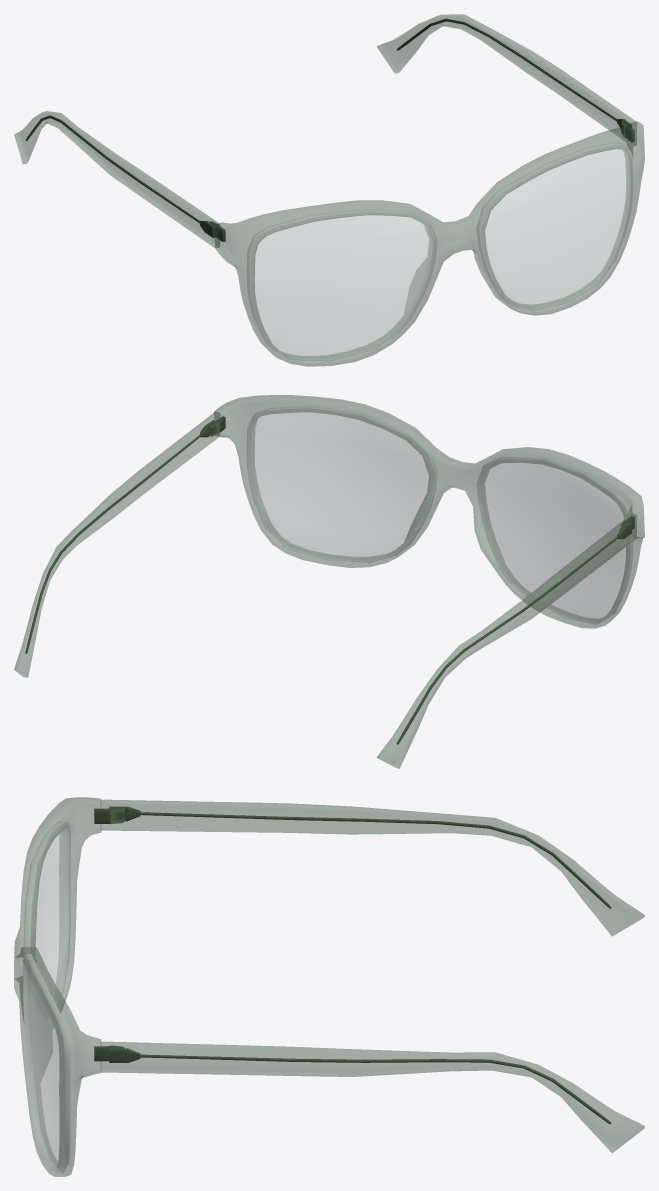
Rendered from wayfarer-klasik-zeytin-yesili.glb.
3 views of the same model, one above another, from view 1: azimuth 30°, elevation 25°; view 2: azimuth 150°, elevation 25°; view 3: azimuth 270°, elevation 25° (orthographic). The views are drawn at different scales.
Visible parts, largest first — view 1: OPTIK_PRODUCT_225; view 2: OPTIK_PRODUCT_225; view 3: OPTIK_PRODUCT_225.
Boxes of the visible parts, left/top/right/bottom form: OPTIK_PRODUCT_225: left=14, top=14, right=644, bottom=366; OPTIK_PRODUCT_225: left=14, top=395, right=644, bottom=768; OPTIK_PRODUCT_225: left=14, top=797, right=644, bottom=1176.
Bounding box in the file's own units: 0.151 × 0.0546 × 0.1636.
